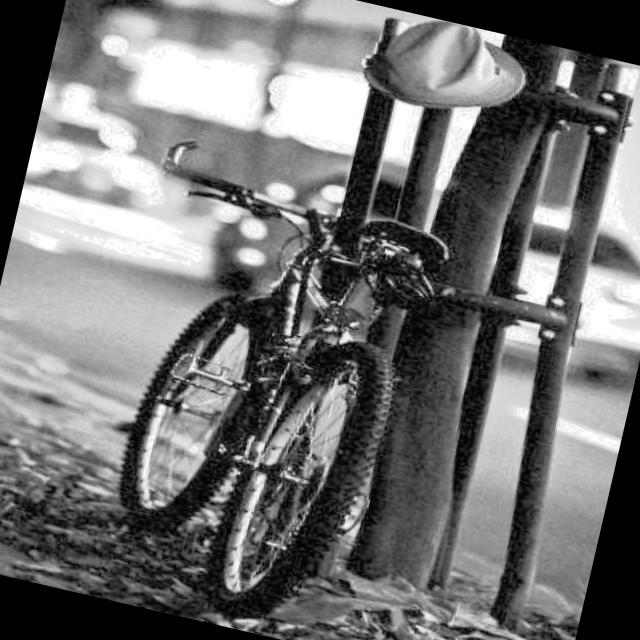Bicycle: (52, 115, 582, 640)
